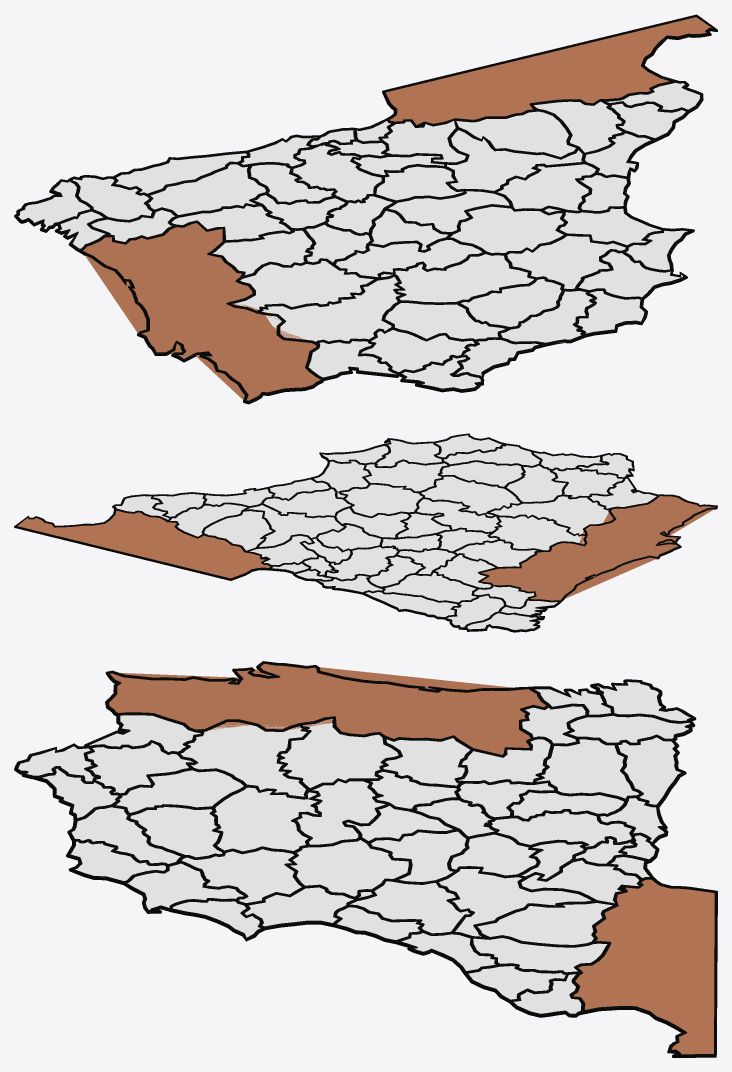
The model's file is spain.fbx.
The picture shows the model from 3 angles, top to bottom: view 1: azimuth 30°, elevation 25°; view 2: azimuth 150°, elevation 25°; view 3: azimuth 270°, elevation 25°; orthographic projection. The views are drawn at different scales.
Parts seen in each view (by area): view 1: Fronteras, Portugal, Castilla-Leon, Andalucia, Castilla-LaMancha, Francia, Aragon, Extremadura, Cataluña, Galicia, Comunidad-Valenciana, Region-Murcia (+6 smaller); view 2: Fronteras, Portugal, Castilla-Leon, Andalucia, Castilla-LaMancha, Francia, Aragon, Extremadura, Cataluña, Galicia, Comunidad-Valenciana, Region-Murcia (+6 smaller); view 3: Fronteras, Portugal, Castilla-Leon, Andalucia, Castilla-LaMancha, Francia, Aragon, Extremadura, Cataluña, Galicia, Comunidad-Valenciana, Asturias (+6 smaller).
Boxes of the visible parts, left/top/right/bottom form: Fronteras: left=14, top=14, right=717, bottom=404; Portugal: left=83, top=223, right=320, bottom=400; Castilla-Leon: left=148, top=145, right=463, bottom=275; Andalucia: left=309, top=279, right=644, bottom=388; Castilla-LaMancha: left=336, top=191, right=625, bottom=302; Francia: left=385, top=17, right=711, bottom=124; Aragon: left=447, top=111, right=595, bottom=210; Extremadura: left=233, top=261, right=399, bottom=341; Cataluña: left=534, top=83, right=699, bottom=176; Galicia: left=18, top=177, right=174, bottom=248; Comunidad-Valenciana: left=544, top=175, right=687, bottom=269; Region-Murcia: left=579, top=251, right=682, bottom=297; Fronteras: left=14, top=433, right=717, bottom=632; Portugal: left=481, top=496, right=714, bottom=600; Castilla-Leon: left=317, top=525, right=536, bottom=602; Andalucia: left=436, top=435, right=656, bottom=508; Castilla-LaMancha: left=336, top=461, right=519, bottom=537; Francia: left=17, top=510, right=269, bottom=578; Aragon: left=204, top=489, right=350, bottom=550; Extremadura: left=490, top=496, right=608, bottom=550; Cataluña: left=115, top=489, right=272, bottom=536; Galicia: left=447, top=586, right=557, bottom=629; Comunidad-Valenciana: left=270, top=446, right=388, bottom=499; Region-Murcia: left=377, top=440, right=441, bottom=466; Fronteras: left=14, top=661, right=717, bottom=1057; Portugal: left=109, top=664, right=545, bottom=754; Castilla-Leon: left=371, top=738, right=638, bottom=875; Andalucia: left=18, top=715, right=243, bottom=880; Castilla-LaMancha: left=182, top=781, right=465, bottom=902; Francia: left=573, top=879, right=714, bottom=1054; Aragon: left=350, top=869, right=612, bottom=944; Extremadura: left=181, top=719, right=398, bottom=796; Cataluña: left=401, top=933, right=607, bottom=1013; Galicia: left=522, top=682, right=690, bottom=743; Comunidad-Valenciana: left=172, top=887, right=419, bottom=939; Asturias: left=618, top=737, right=680, bottom=804.
Bounding box in the file's own units: 468 × 2 × 353.
